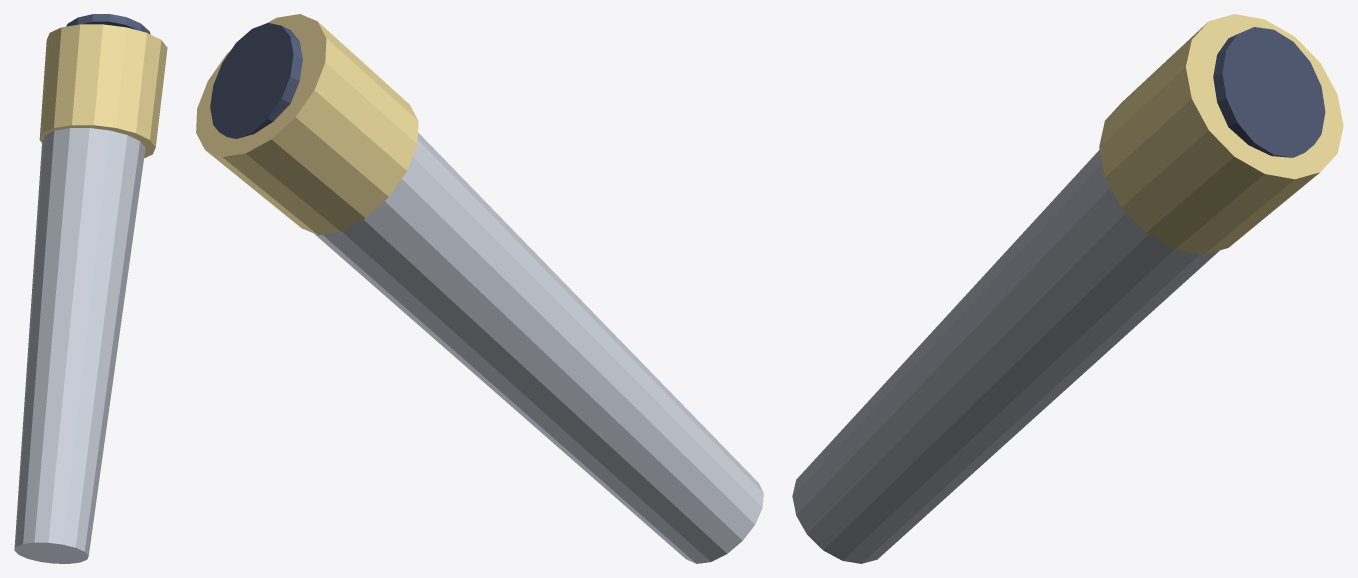
The model's file is telescopio.glb.
3 renders of one model, left to right at view 1: azimuth 30°, elevation 25°; view 2: azimuth 150°, elevation 25°; view 3: azimuth 270°, elevation 25°, orthographic. The views are drawn at different scales.
Visible parts, largest first — view 1: telescopio; view 2: telescopio; view 3: telescopio.
Part boxes in pixels (bbox=[...]): telescopio: bbox=[14, 14, 167, 563]; telescopio: bbox=[196, 14, 763, 563]; telescopio: bbox=[792, 14, 1343, 563].
Size of the model in its own units: 18.22 by 27.41 by 20.88.
